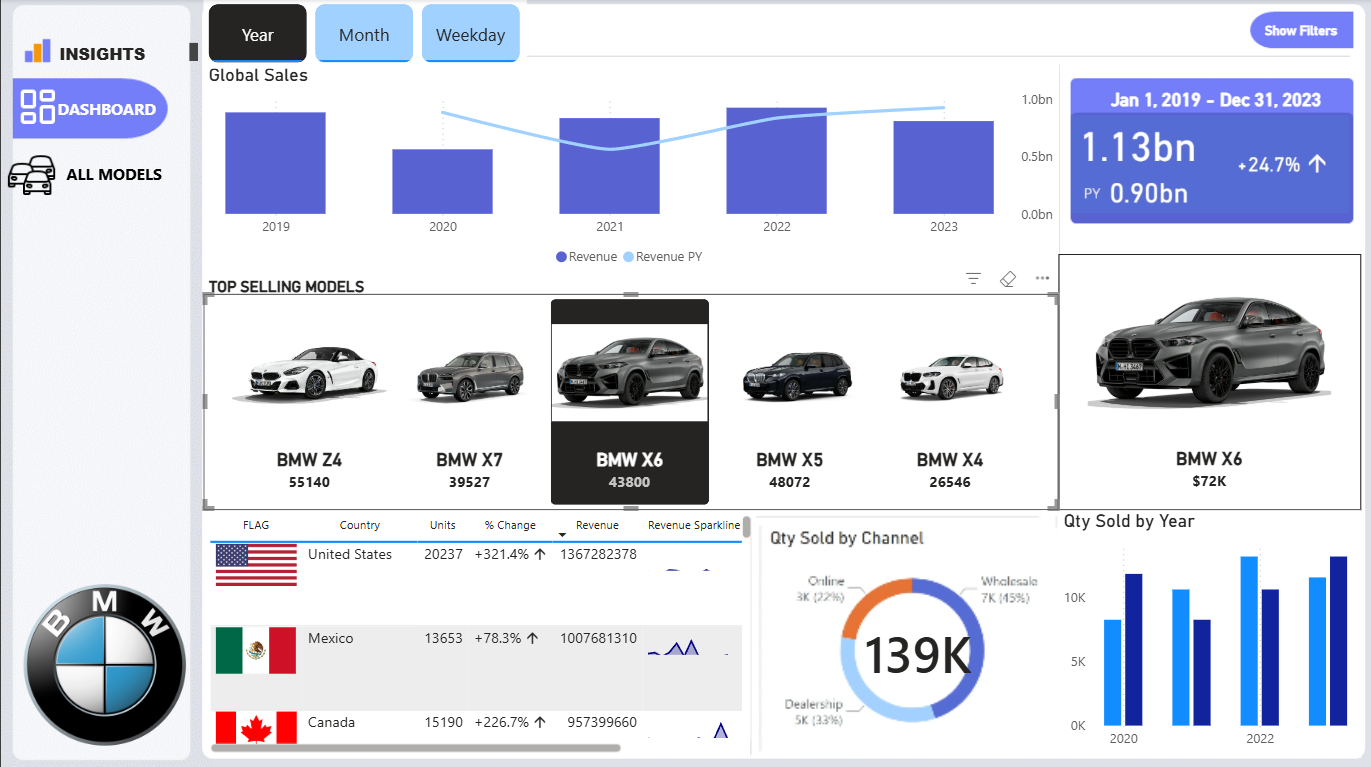

The dashboard page shown, as its layout file describes it:
{"tool":"powerbi","page":{"name":"Page 1","canvas":[1280,720],"ordinal":0},"visuals":[{"type":"lineClusteredColumnComboChart","title":"Global Sales","fields":{"Category":["Calendar.Weekday"],"Y":["All measures.Revenue"],"Y2":["All measures.Revenue PY"]},"box":[188,60.4,795.9,197.6],"z":0},{"type":"advancedSlicerVisual","fields":{"Values":["PeriodSlicer.PeriodSlicer"]},"box":[188,0,300.5,64.5],"z":1000},{"type":"cardVisual","fields":{"Data":["All measures.Selected Period"]},"box":[1003.5,52.3,261.6,79.1],"z":6000},{"type":"advancedSlicerVisual","fields":{"Values":["dimModel.Model"]},"box":[188,274.4,795.9,201.7],"z":7000},{"type":"advancedSlicerVisual","fields":{"Values":["dimModel.Model"]},"box":[983.9,237.4,281.3,238.8],"z":8000},{"type":"textbox","box":[188,253.9,167.4,39.8],"z":9000},{"type":"clusteredColumnChart","title":"Qty Sold by Year","fields":{"Y":["All measures.Qty Sold","All measures.Qty Sold PY"],"Category":["Calendar.Year"]},"box":[983.9,476.2,281.3,230.5],"z":11000},{"type":"image","box":[702.6,480.3,281.3,222.3],"z":12000},{"type":"cardVisual","fields":{"Data":["All measures.Qty Sold"]},"box":[774.4,518.6,505.8,176.7],"z":13000},{"type":"tableEx","fields":{"Values":["dimCountry.FLAG","dimCountry.Country","All measures.Units","All measures.% Change","All measures.Revenue","All measures.Revenue Sparkline","All measures.Qty Sold Gradient Sparkline"]},"box":[188,476.2,514.6,230.5],"z":14000},{"type":"textbox","box":[47.7,87.2,112.8,31.4],"z":15000},{"type":"textbox","box":[56.3,148.2,104.3,37],"z":16000},{"type":"image","box":[0,141.3,56.3,43.9],"z":17000},{"type":"image","box":[20.6,518.7,150.9,201.7],"z":18000},{"type":"image","box":[20.9,33.7,26.7,26.7],"z":19000},{"type":"textbox","box":[48.8,36,139.5,27.9],"z":20000},{"type":"image","box":[15.1,80.2,38.4,39.5],"z":21000},{"type":"actionButton","title":"Show Filters","box":[1175.6,22.1,77.9,20.9],"z":30001},{"type":"image","box":[995.4,33.7,258.1,239.5],"z":30002}]}

Visuals, with their boxes on the page's 1280x720 design canvas (x1, y1, x2, y2). These are canvas units, not pixel positions in the 1371x767 screenshot, which may show the page scaled, cropped or inside an application window:
"Global Sales" lineClusteredColumnComboChart: <region>188, 60, 984, 258</region>
advancedSlicerVisual - PeriodSlicer.PeriodSlicer: <region>188, 0, 488, 64</region>
cardVisual - All measures.Selected Period: <region>1004, 52, 1265, 131</region>
advancedSlicerVisual - dimModel.Model: <region>188, 274, 984, 476</region>
advancedSlicerVisual - dimModel.Model: <region>984, 237, 1265, 476</region>
textbox: <region>188, 254, 355, 294</region>
"Qty Sold by Year" clusteredColumnChart: <region>984, 476, 1265, 707</region>
image: <region>703, 480, 984, 703</region>
cardVisual - All measures.Qty Sold: <region>774, 519, 1280, 695</region>
tableEx - dimCountry.FLAG x dimCountry.Country: <region>188, 476, 703, 707</region>
textbox: <region>48, 87, 160, 119</region>
textbox: <region>56, 148, 161, 185</region>
image: <region>0, 141, 56, 185</region>
image: <region>21, 519, 172, 720</region>
image: <region>21, 34, 48, 60</region>
textbox: <region>49, 36, 188, 64</region>
image: <region>15, 80, 54, 120</region>
"Show Filters" actionButton: <region>1176, 22, 1254, 43</region>
image: <region>995, 34, 1254, 273</region>
